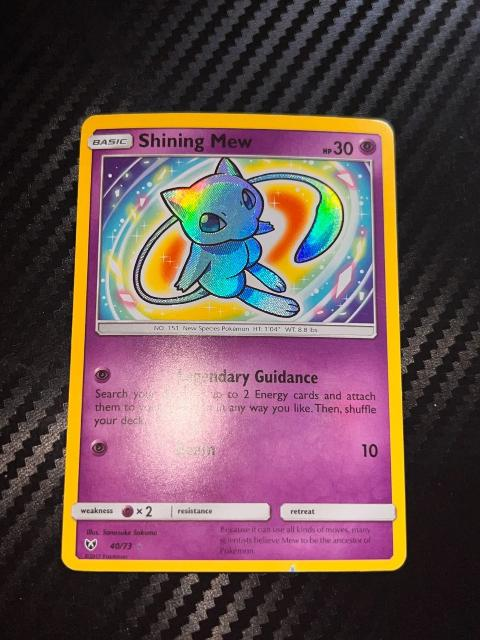Card: (59, 110, 412, 575)
Name: (133, 129, 260, 158)
